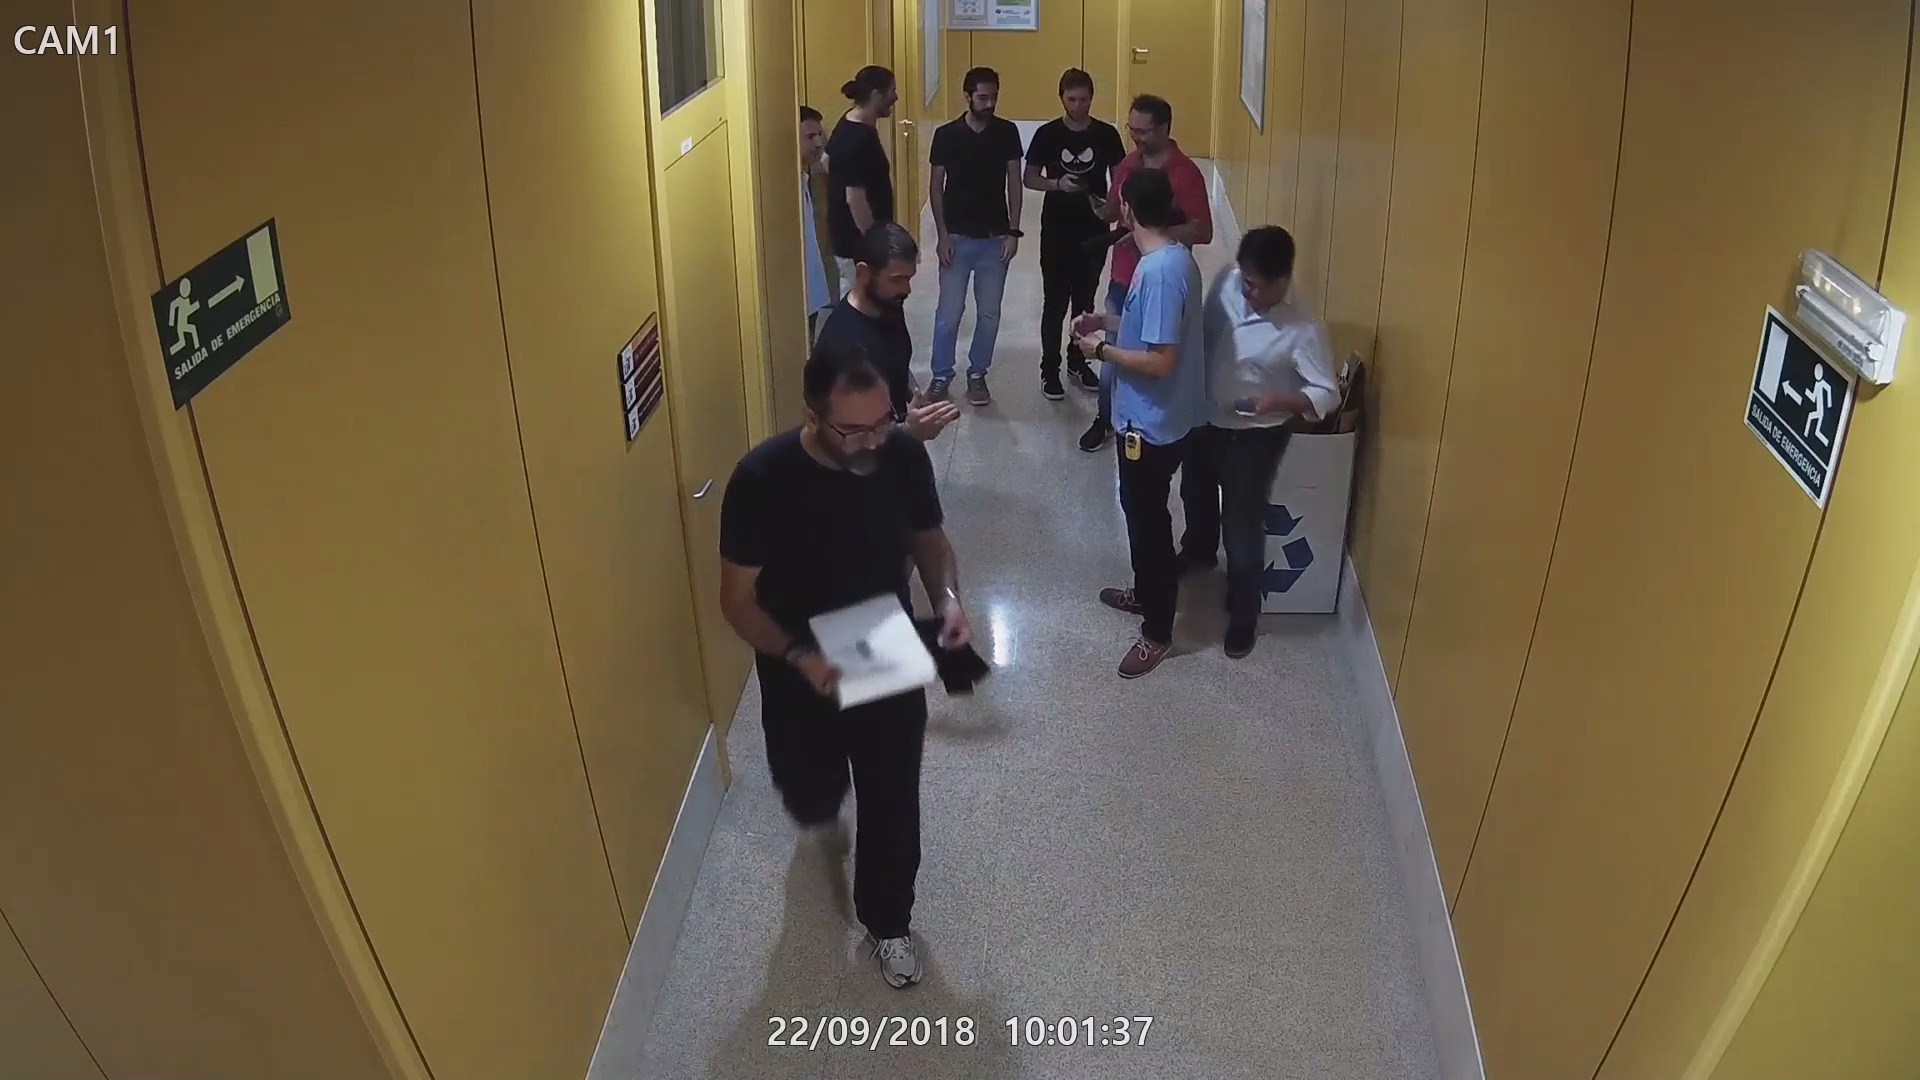Short_rifle: (1073, 206, 1193, 260)
